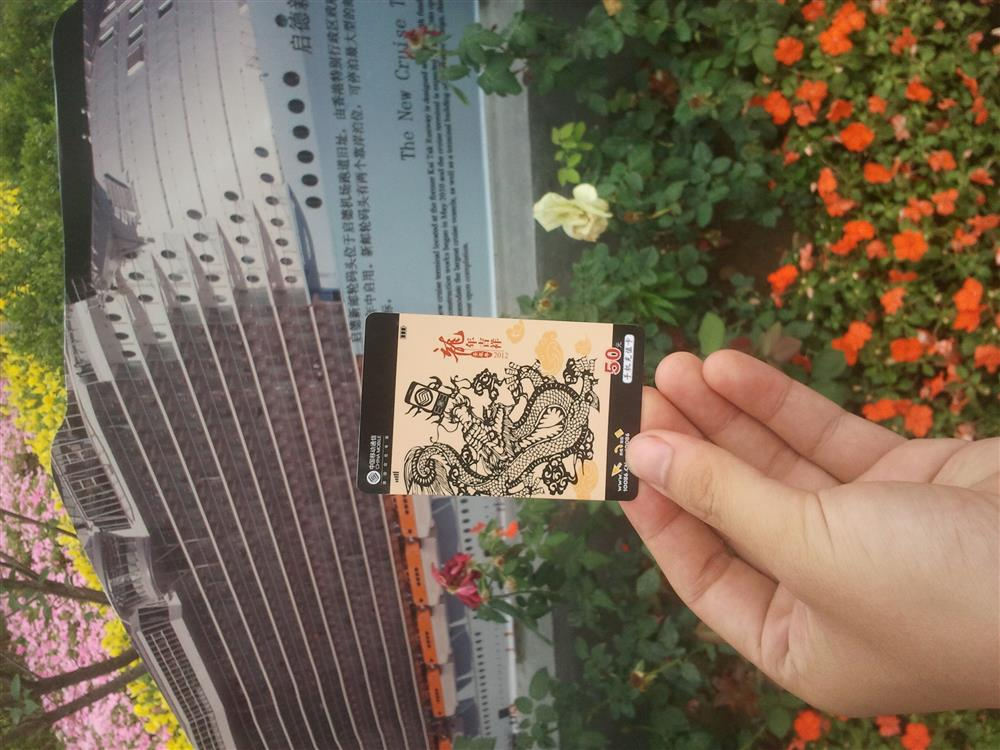china_mobile_card: (357, 312, 644, 505)
